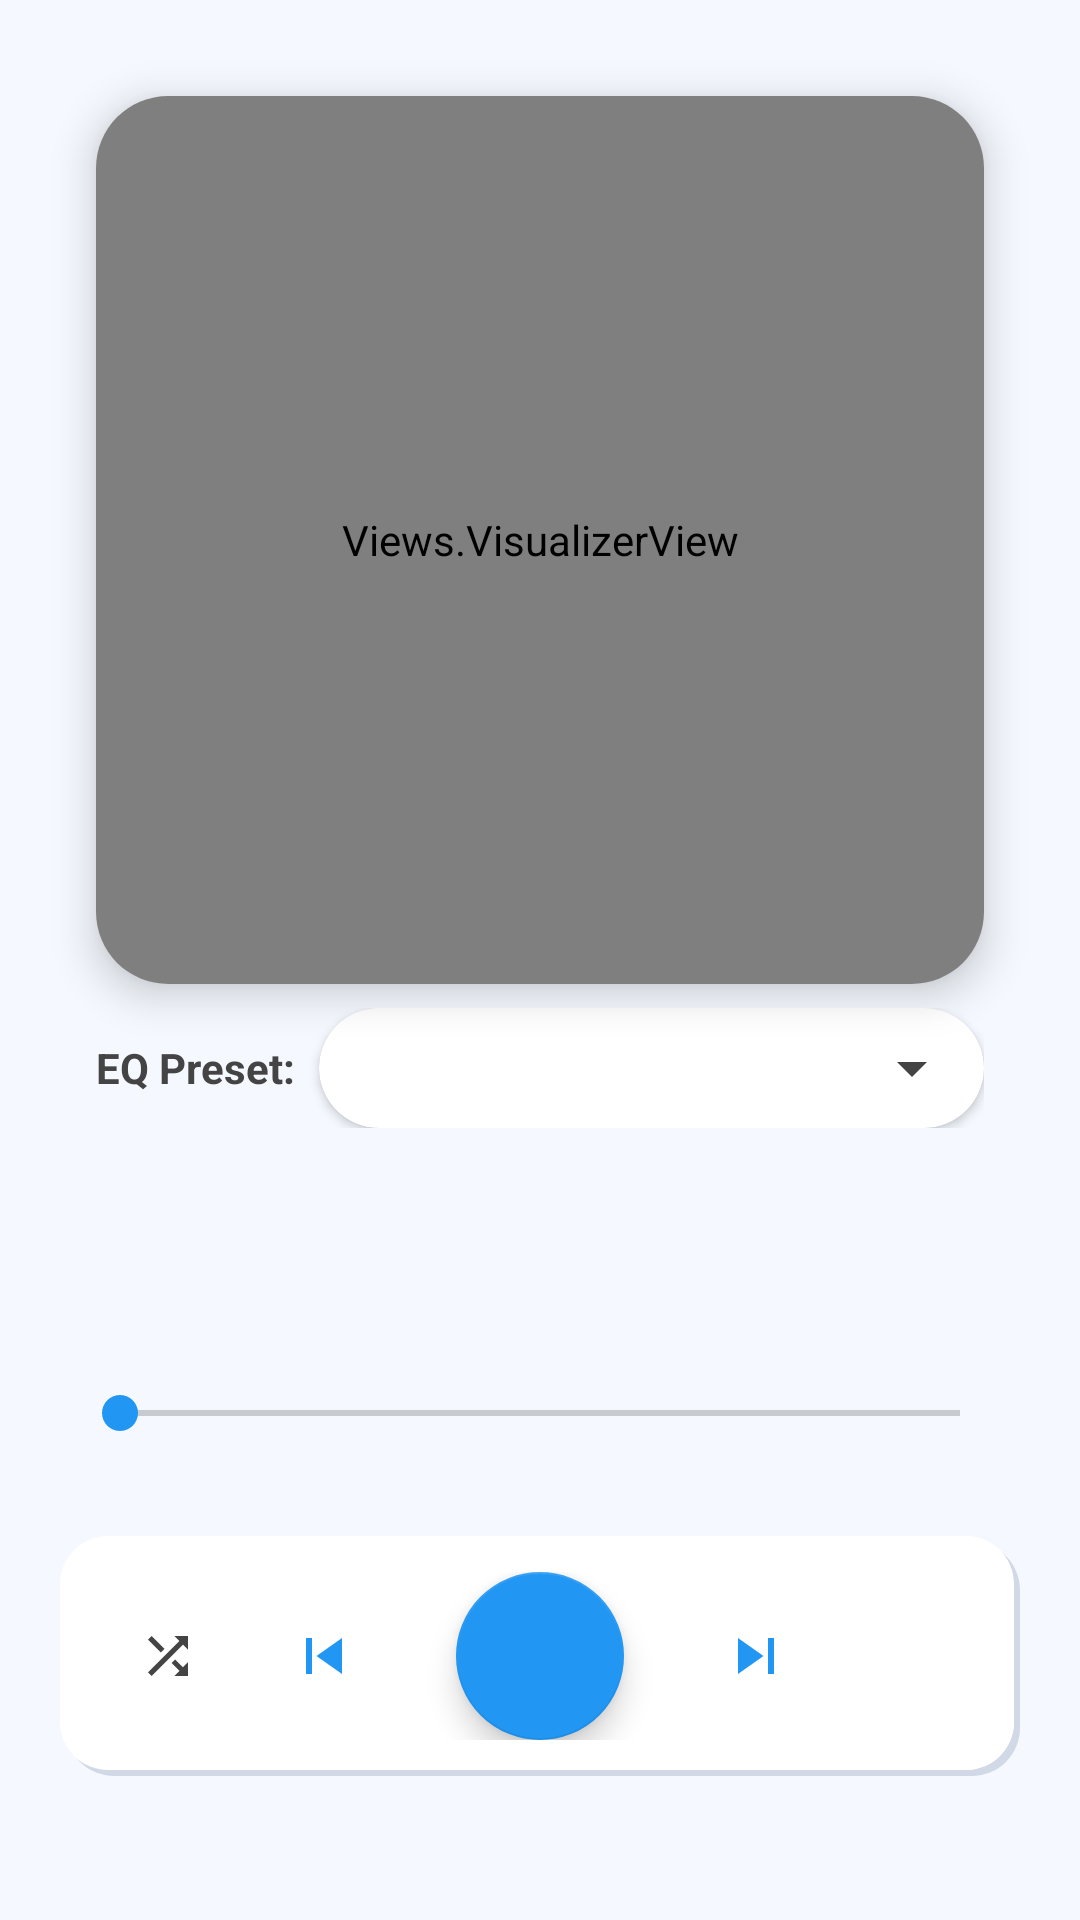

Icons on this 1080 × 1920 Android screen, each with the point to tap as (x=x, y=y):
Next Song: (x=756, y=1656)
Previous Song: (x=324, y=1656)
shuffle: (x=168, y=1656)
